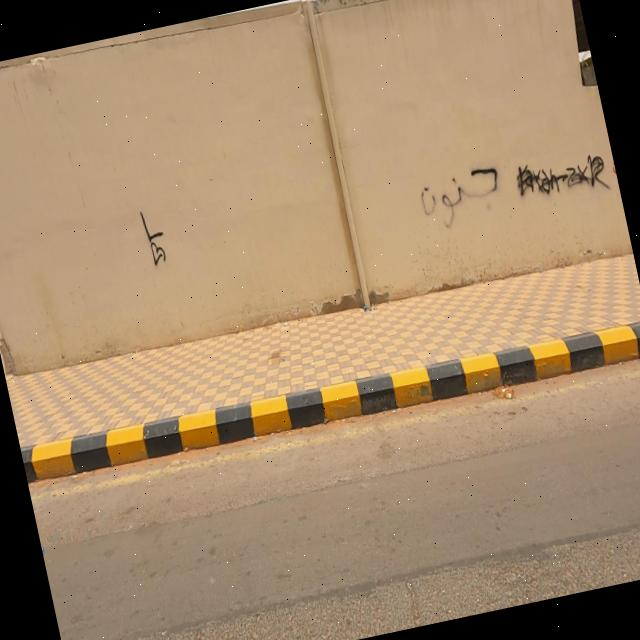Graffiti: (417, 164, 506, 235), (514, 144, 611, 208), (139, 208, 172, 270)
